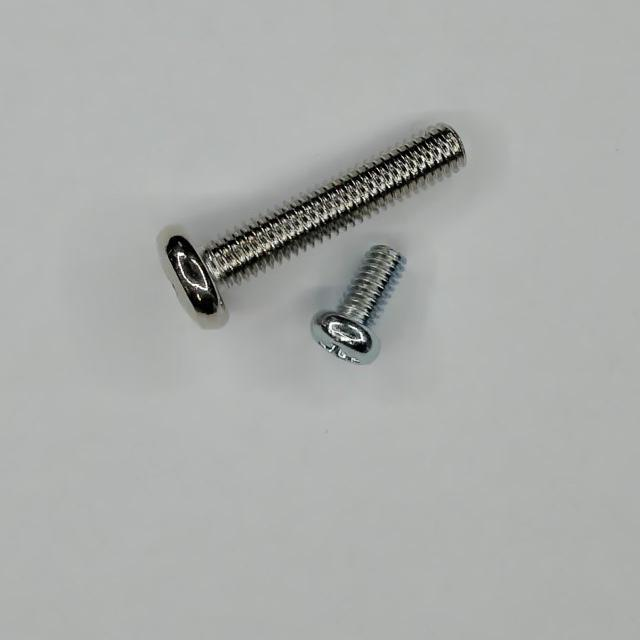Screw: (166, 125, 465, 328), (312, 245, 406, 364)
